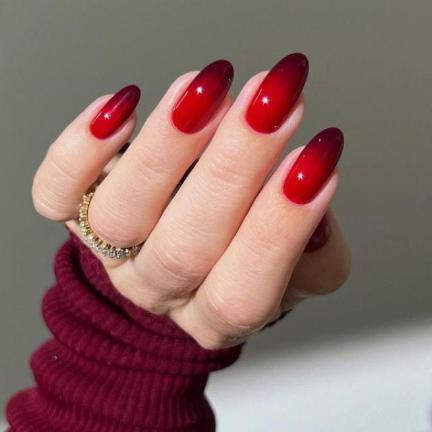Nail: (246, 52, 309, 134), (282, 127, 345, 205), (171, 59, 234, 134), (89, 85, 141, 139)
